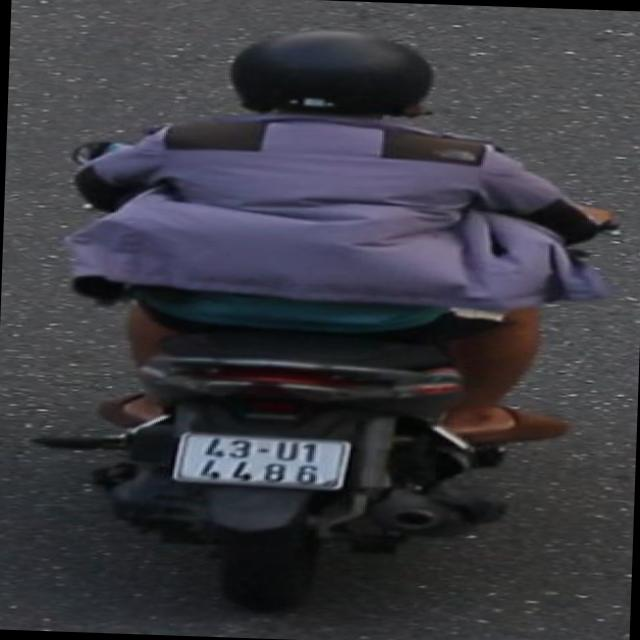LP: (167, 428, 357, 498)
helmet: (212, 21, 448, 132)
